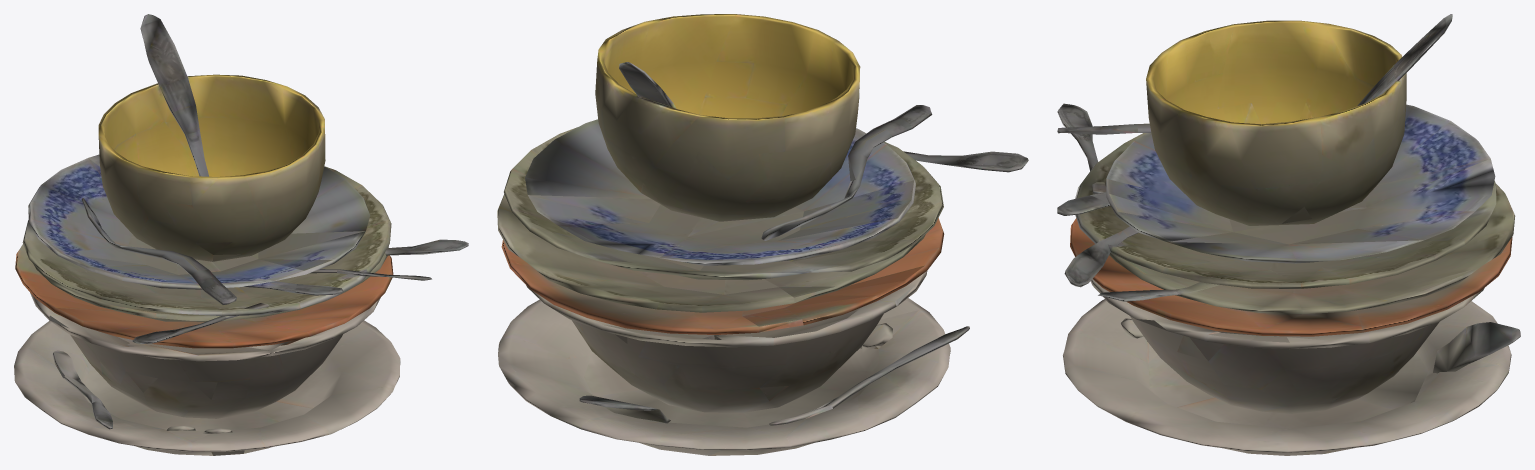
Rendered from dishes.glb.
3 renders of one model, left to right at view 1: azimuth 30°, elevation 25°; view 2: azimuth 150°, elevation 25°; view 3: azimuth 270°, elevation 25°, orthographic. The views are drawn at different scales.
Parts seen in each view (by area): view 1: Mesh_0; view 2: Mesh_0; view 3: Mesh_0.
Boxes of the visible parts, x1,y1,x2,y2 form: Mesh_0: (14, 14, 468, 455); Mesh_0: (497, 14, 1028, 455); Mesh_0: (1057, 14, 1520, 455).
Bounding box in the file's own units: 0.2706 × 0.25 × 0.2706.
1 material, 1 textured.
